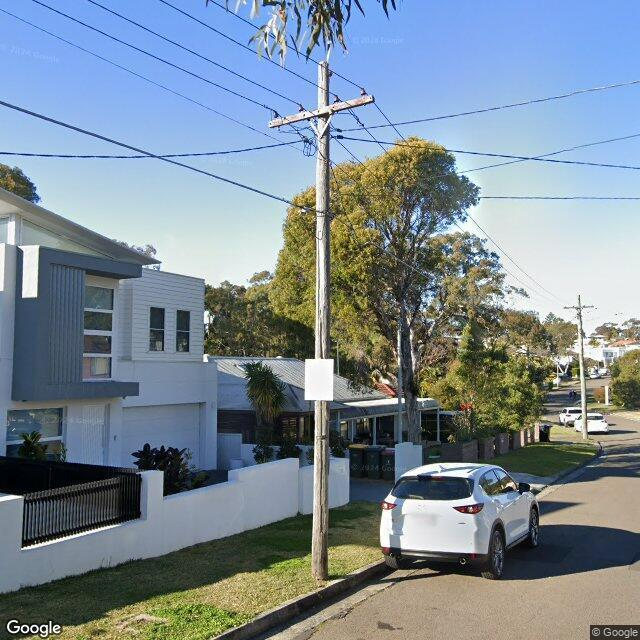crossarm: (268, 93, 376, 130), (564, 305, 594, 310)
timber-pole: (312, 64, 333, 582), (578, 295, 588, 440)
